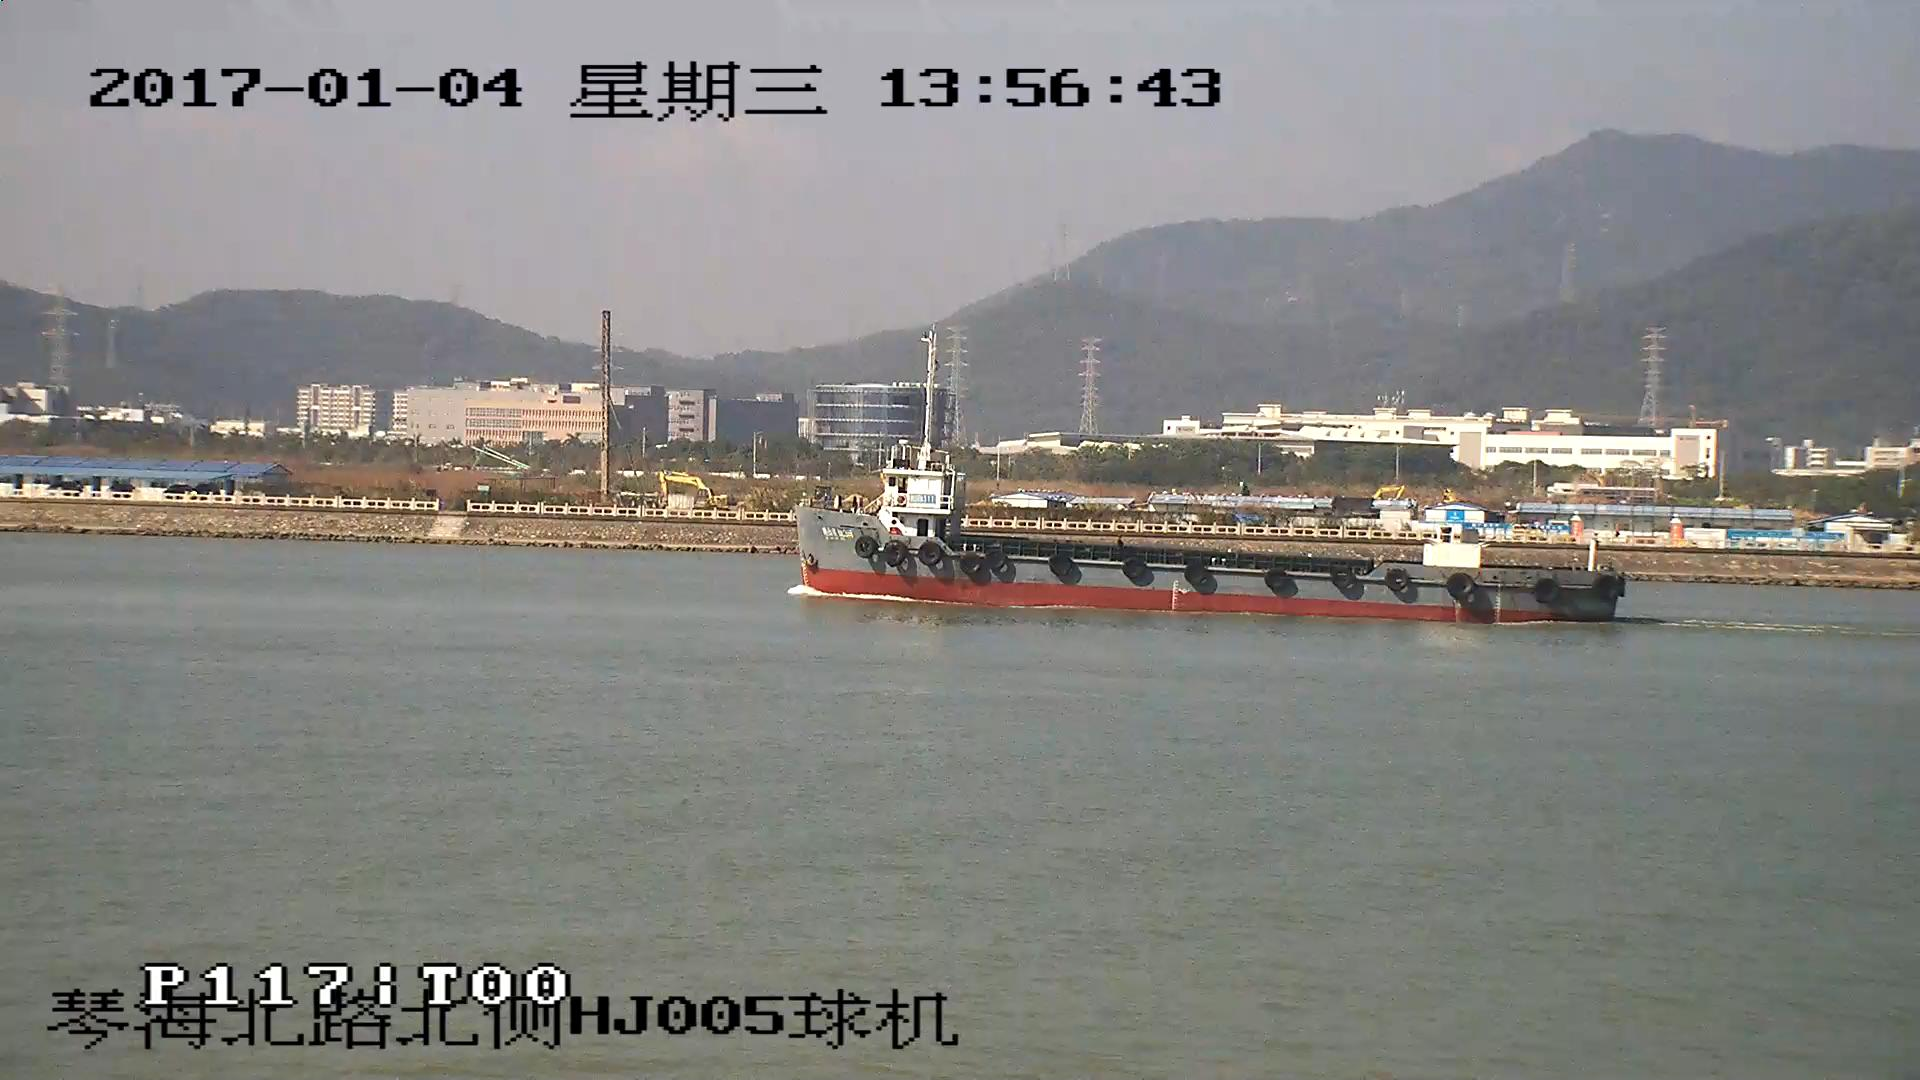general cargo ship: (794, 453, 1626, 629)
